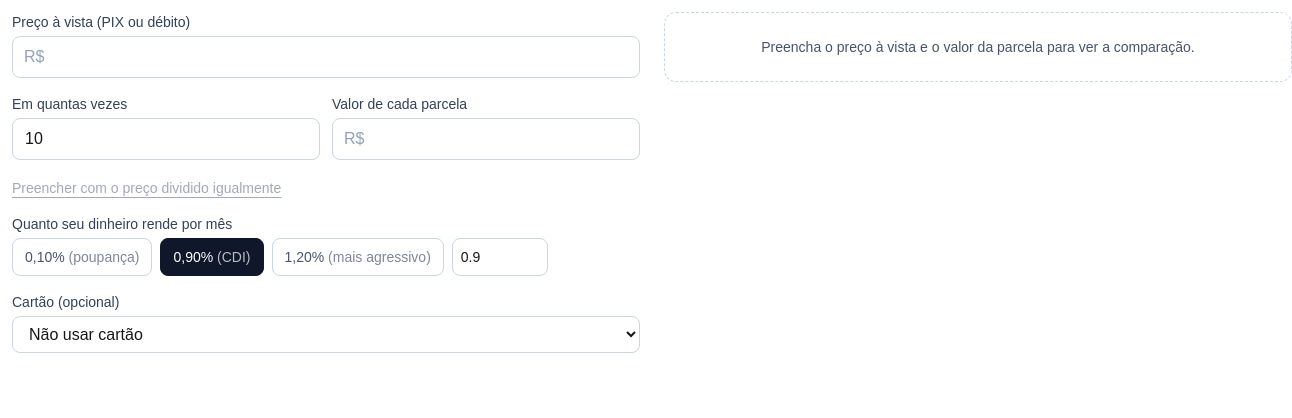
it: SimulatorForm — atalho de divisao › preenche a parcela com o preco dividido igualmente
Type "100000" into the field labelled "Preço à vista (PIX ou débito)".
click(326, 57); type("100000")  # box [12, 36, 640, 78]
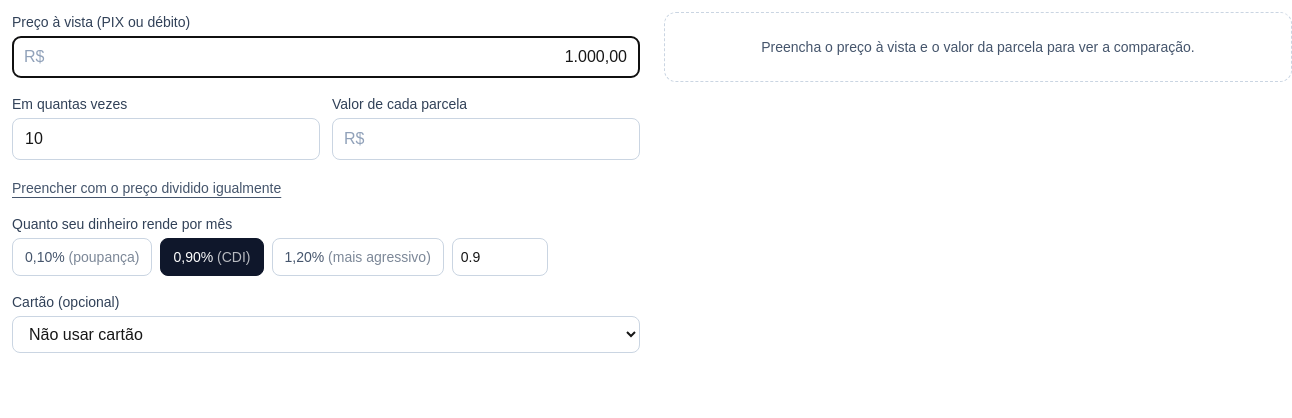
Click the button "Preencher com o preço dividido igualmente".
click(147, 188)  # box [12, 178, 281, 198]
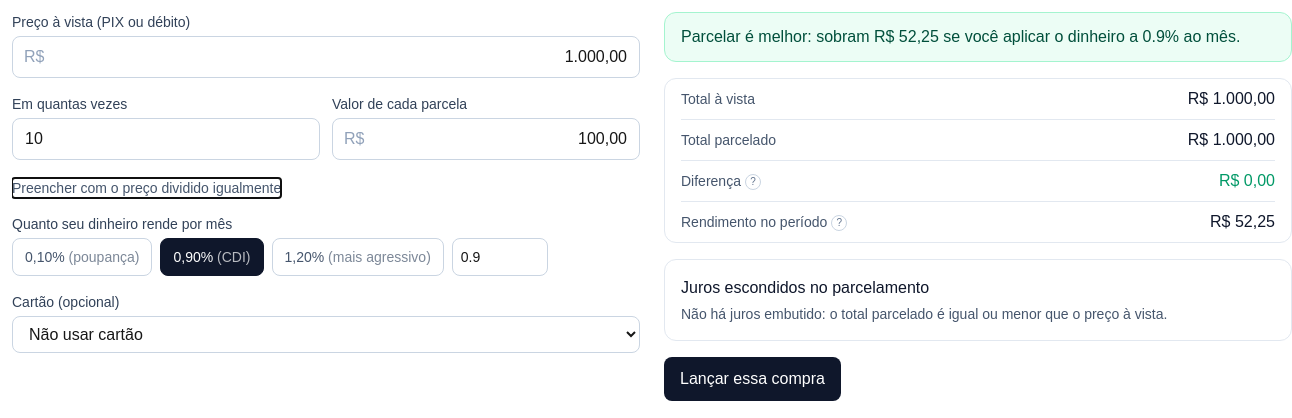
expect the field labelled "Valor de cada parcela" holds "100,00": met, box [332, 118, 640, 160]
